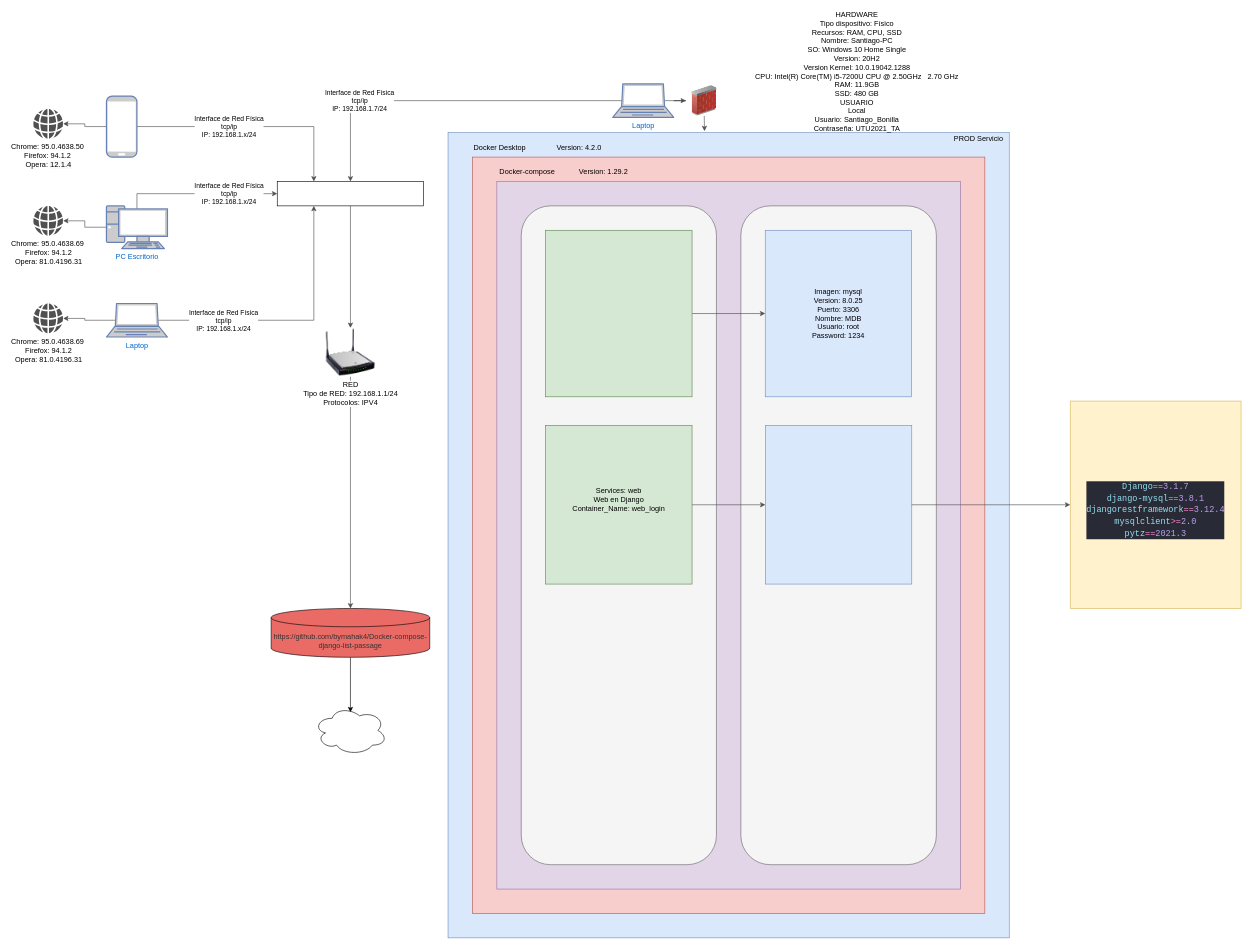
Some shapes in this 1252 by 949 pixel diagram are drawn without their labels. The centre of each missing label's shape, as x and y in pixels:
Celular Android: [121,126]
Firewall: [704,100]
Imagen: Python Version: 3.9.7 Puerto: 8000 Document Root: /var/lib/mysql: [838,504]
Nube: [350,730]
RED INTERNA LOCAL 192.168.1.1/24: [350,193]
Services: Mysql Base de datos MySQL Container_Name: django-base: [618,313]
